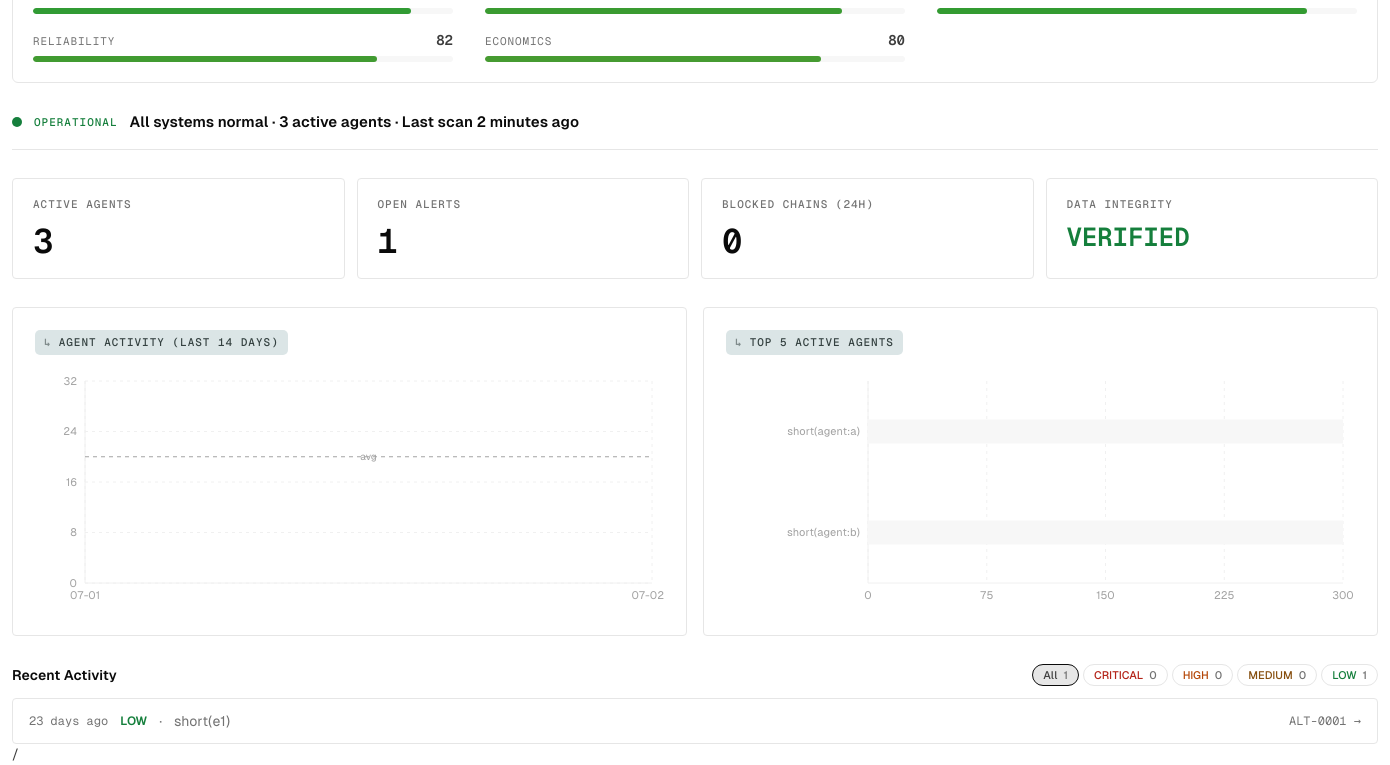
FleetStatusPage — recent activity feed › shows a severity-specific empty note when the filter matches nothing
(page scrolled)
Click the button named "HIGH 0" at x=1202, y=675, box [1172,664,1233,686]
(page scrolled)
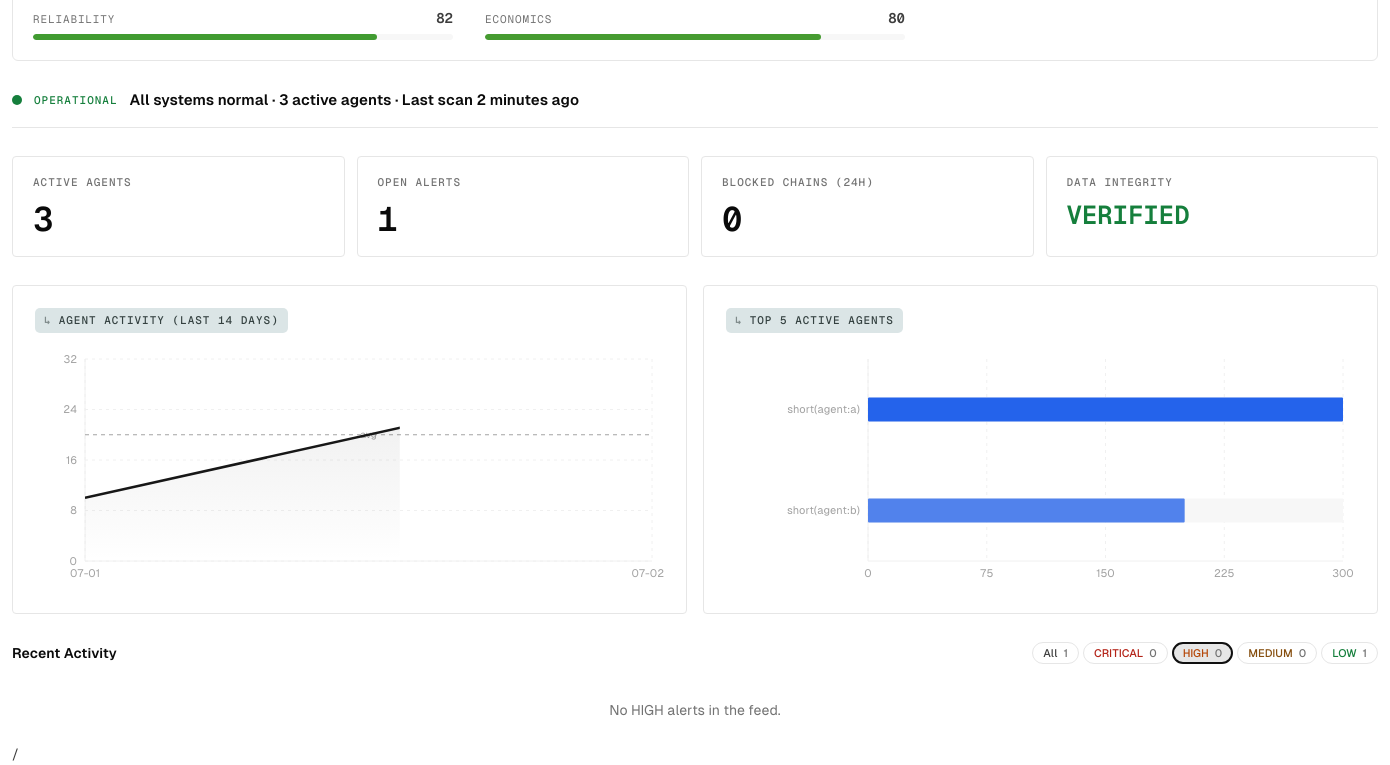
Now the text "No HIGH alerts in the feed." is shown, box [609,702,781,718]
